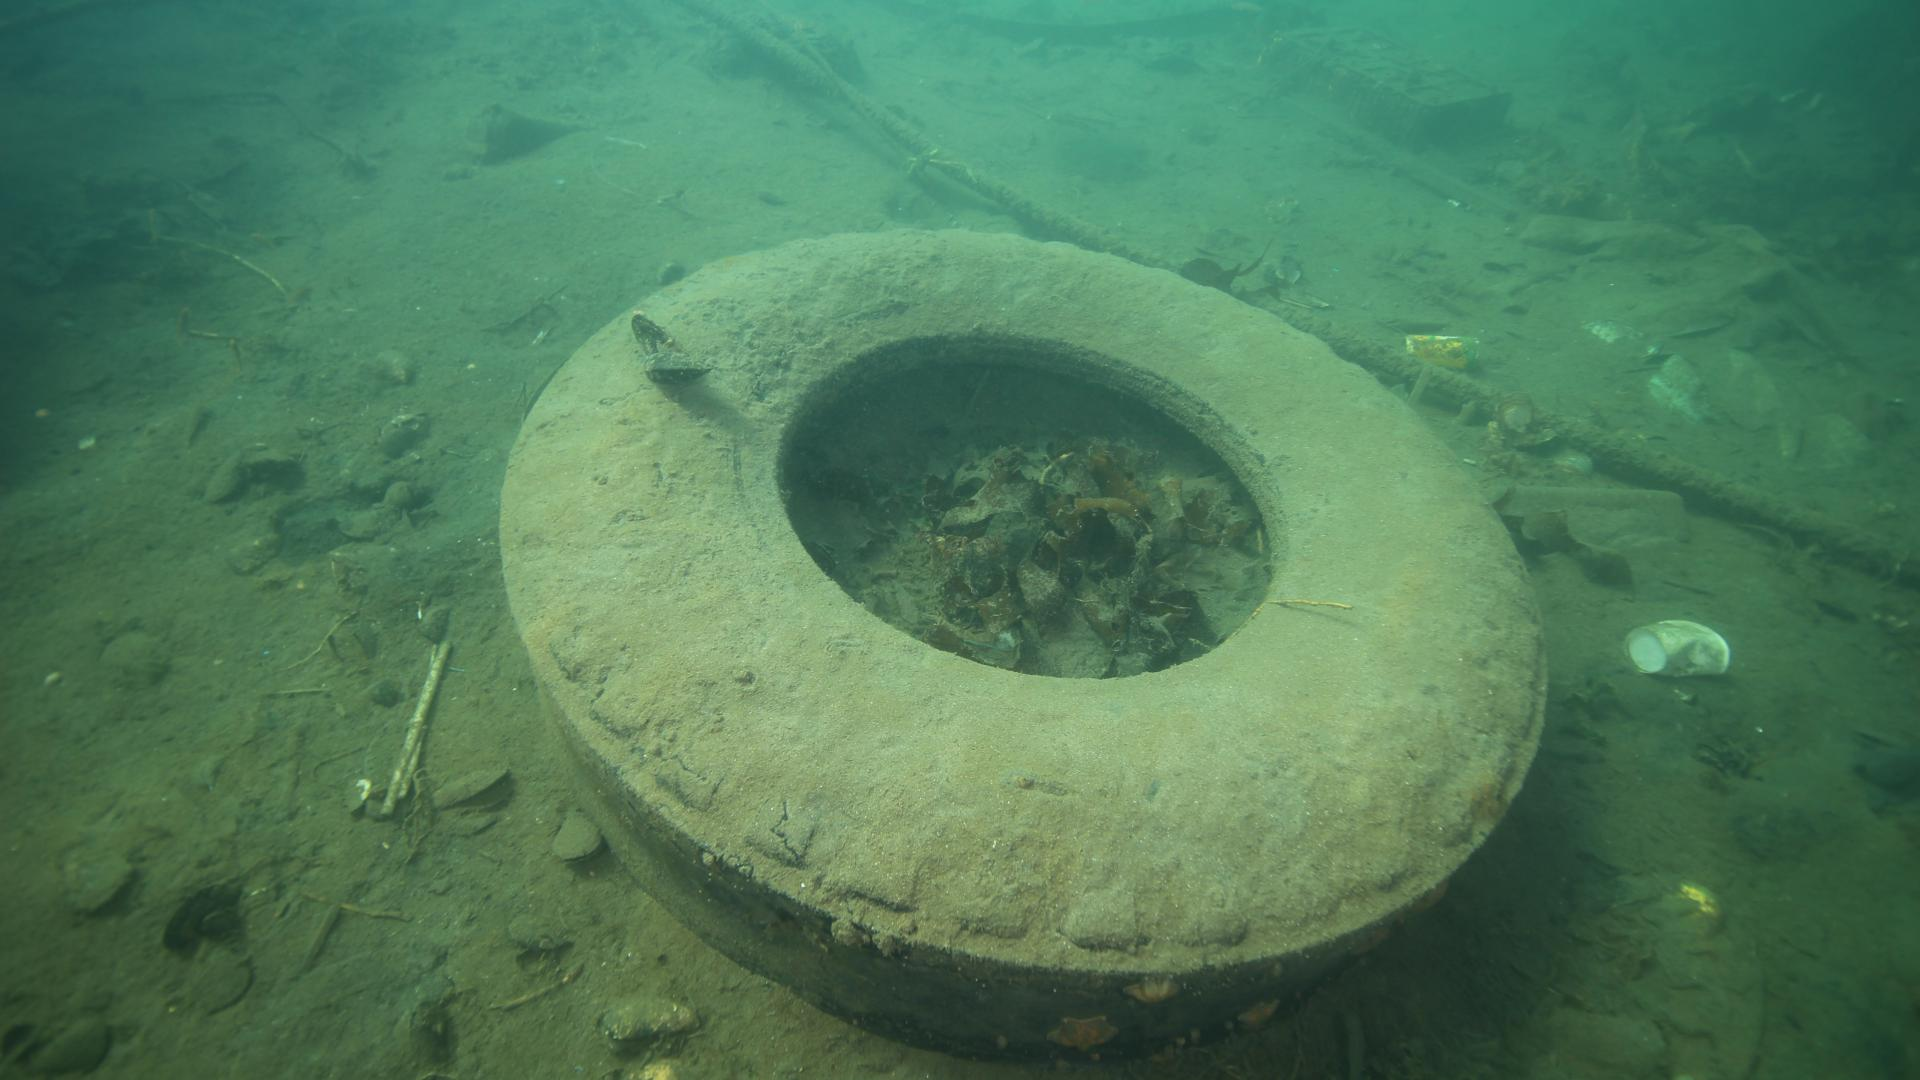rope: (663, 0, 1920, 588)
tire: (495, 223, 1557, 1072)
